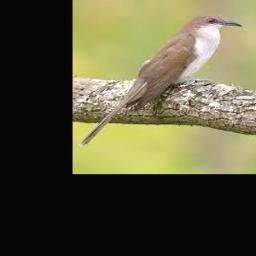Cuckoo: (79, 13, 242, 147)
